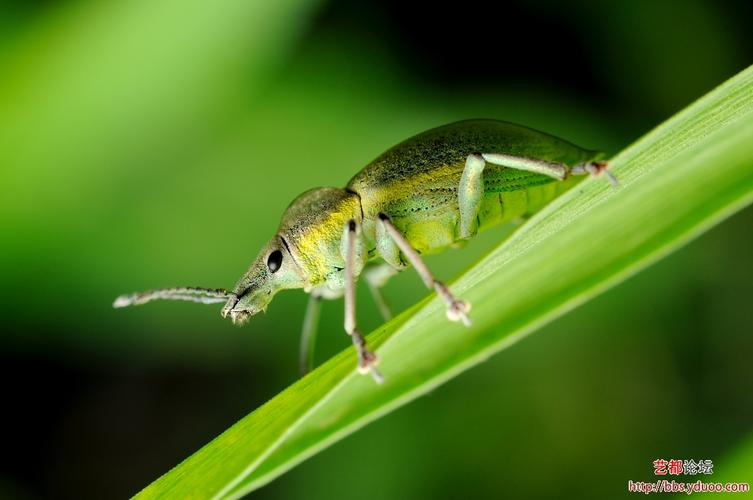Curculionidae: (110, 118, 619, 386)
